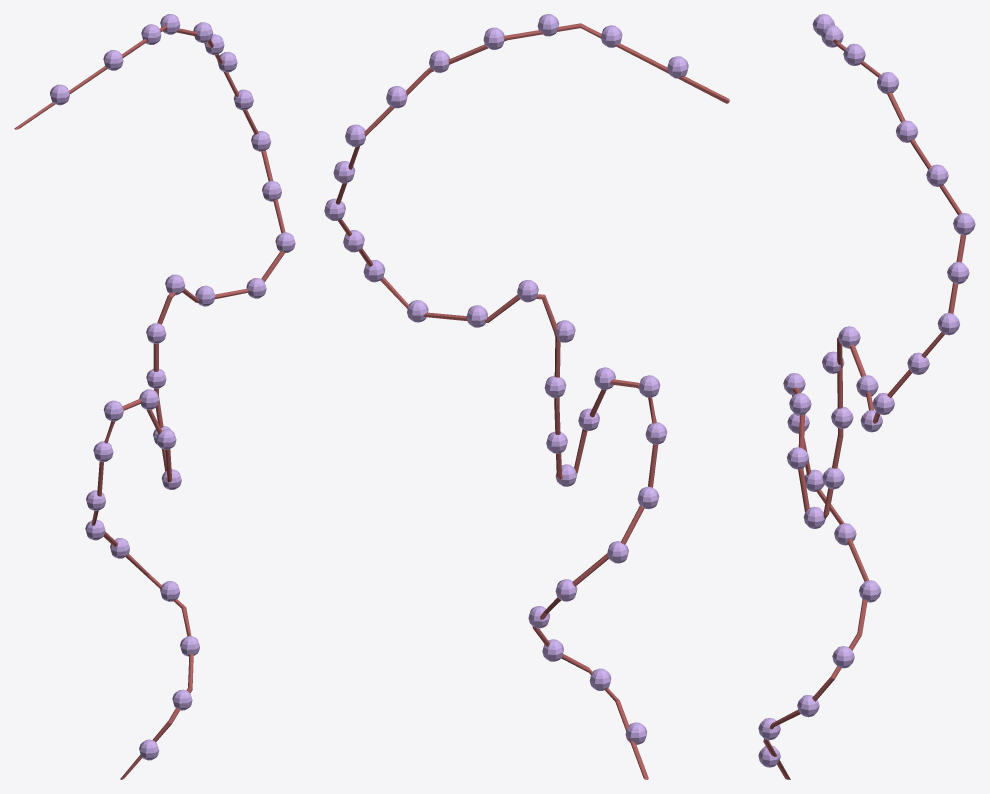
The model's file is Backyard_Lights.fbx.
3 renders of one model, left to right at view 1: azimuth 30°, elevation 25°; view 2: azimuth 150°, elevation 25°; view 3: azimuth 270°, elevation 25°, orthographic. The views are drawn at different scales.
Visible parts, largest first — view 1: Backyard_Lights; view 2: Backyard_Lights; view 3: Backyard_Lights.
Boxes of the visible parts, box(x1,y1,x2,y2) form: Backyard_Lights: box(14, 14, 295, 779); Backyard_Lights: box(324, 14, 729, 779); Backyard_Lights: box(758, 14, 975, 779).
Size of the model in its own units: 185 by 401 by 103.
